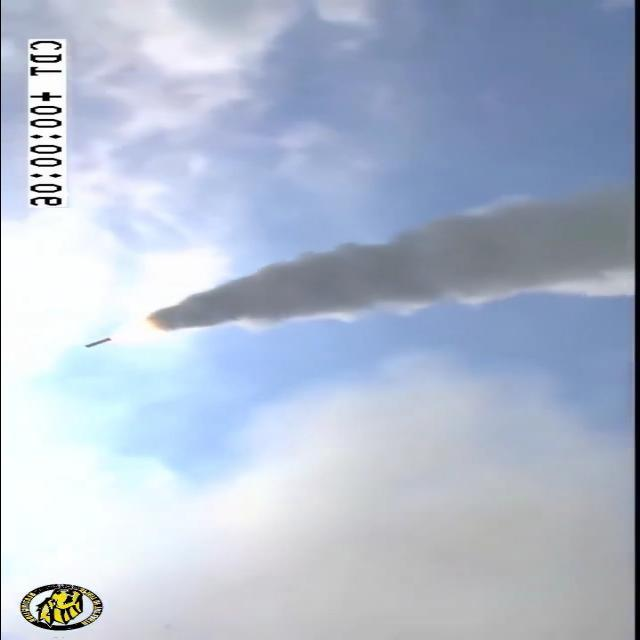missile: (75, 332, 117, 350)
